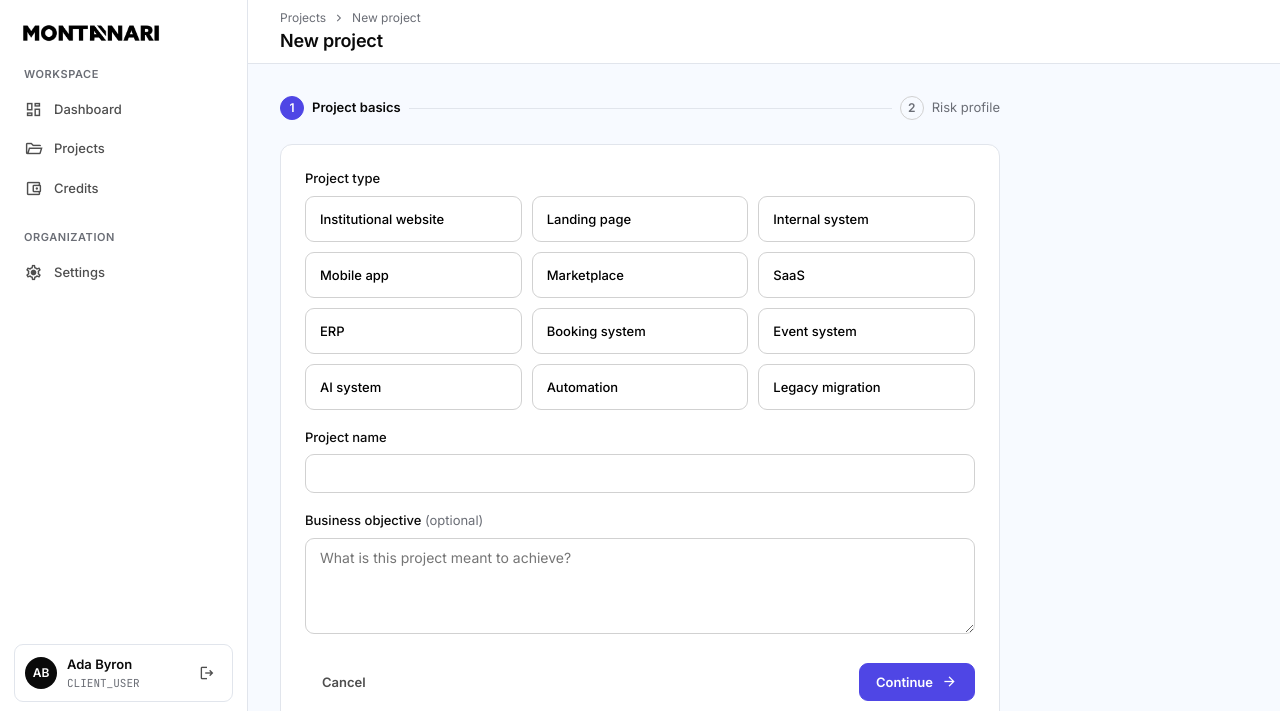
Test: NewProjectWizardPage › blocks step 1 → 2 until type and name are provided, then advances
This screenshot has width=1280, height=711.
Note: Try to continue with nothing filled.
Click the button "Continue". click: (917, 682)
box: [859,662,975,700]
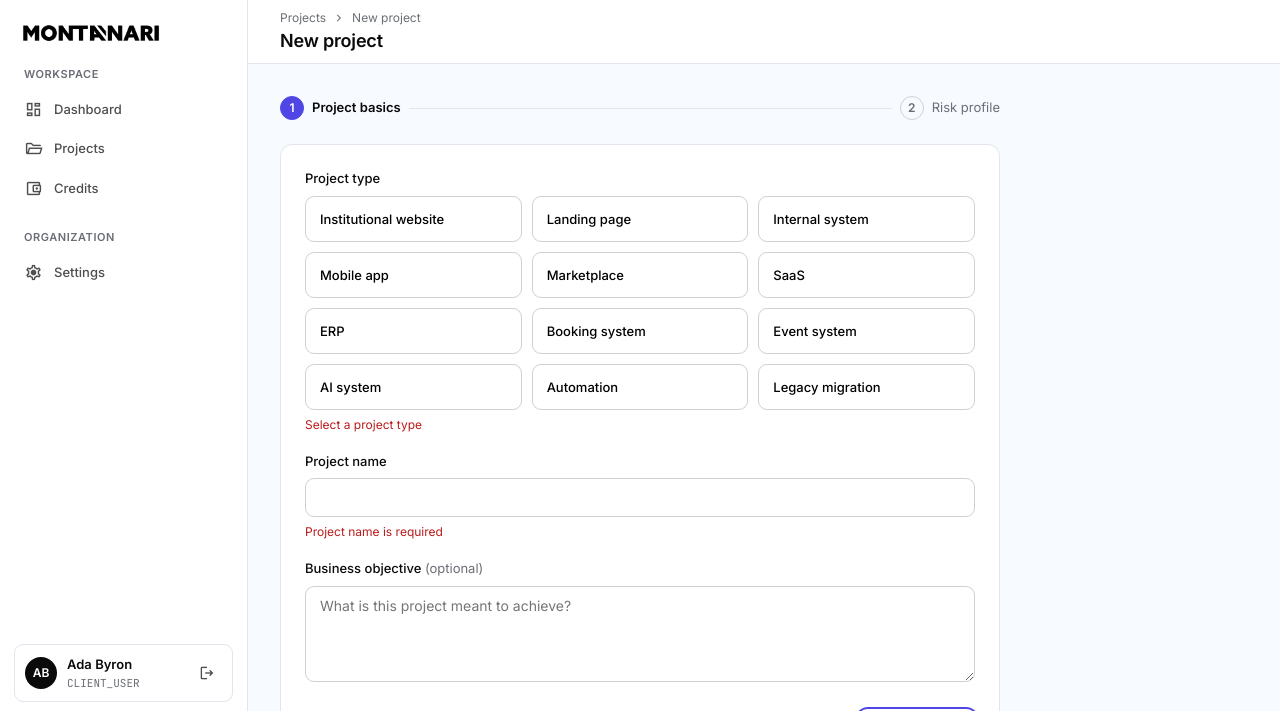
Check: the text "Select a project type" is shown, box [305,416,422,432]
Check: the text "Project name is required" is shown, box [305,524,443,539]
Note: Fill step 1.
Click the button "SaaS". click: (867, 274)
box: [758,252,975,298]
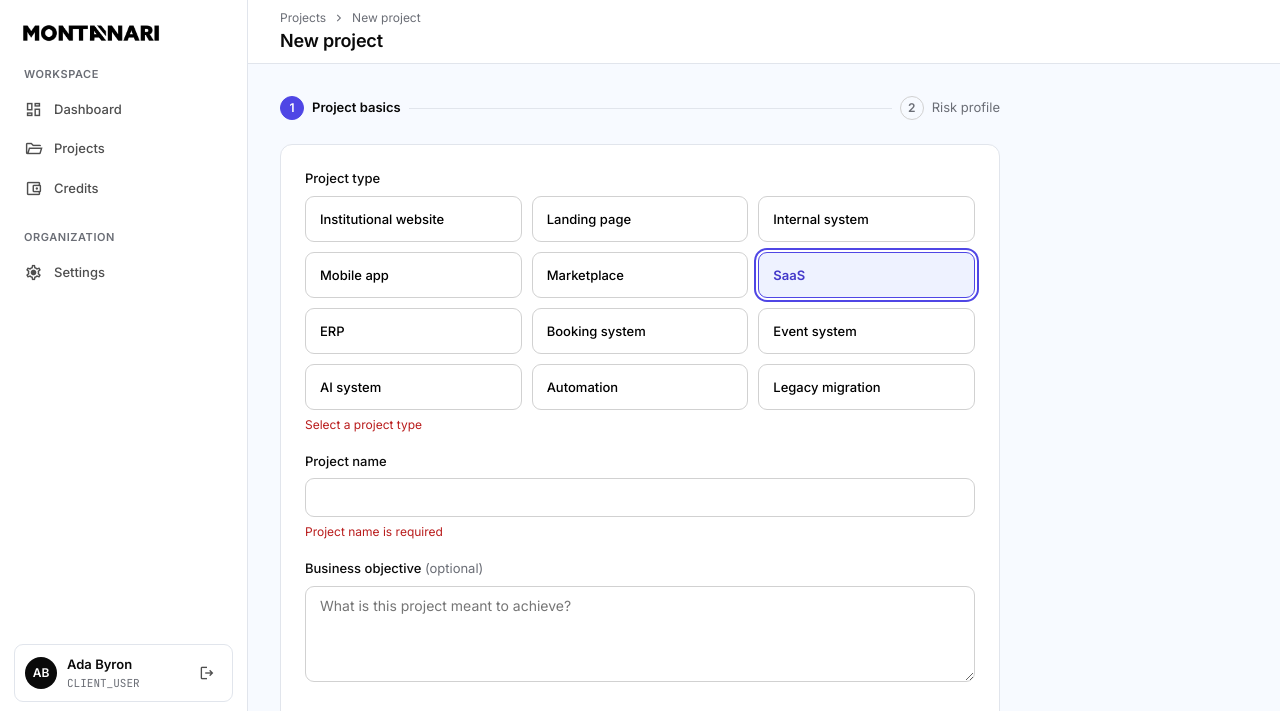
Type "Pilot project" into the field labelled "Project name". click: (640, 498)
box: [305,478,975,517]
(page scrolled)
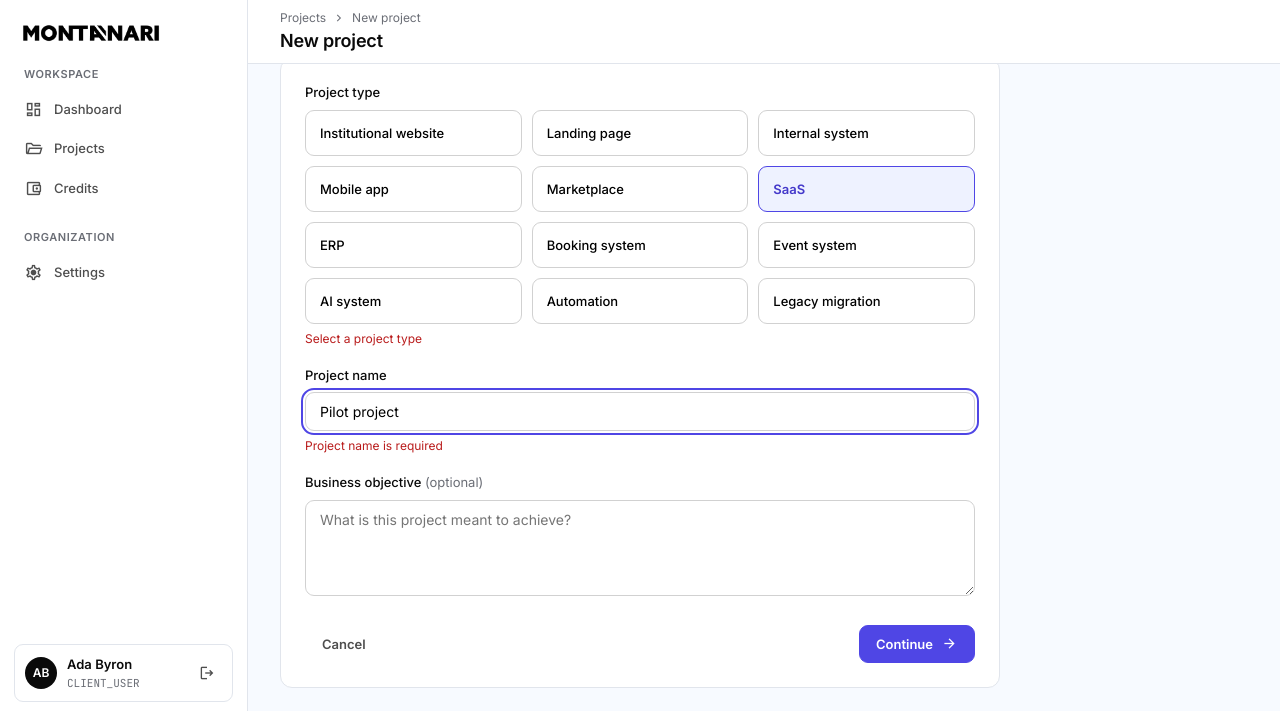
Click the button "Continue". click: (917, 644)
box: [859,624,975,662]
(page scrolled)
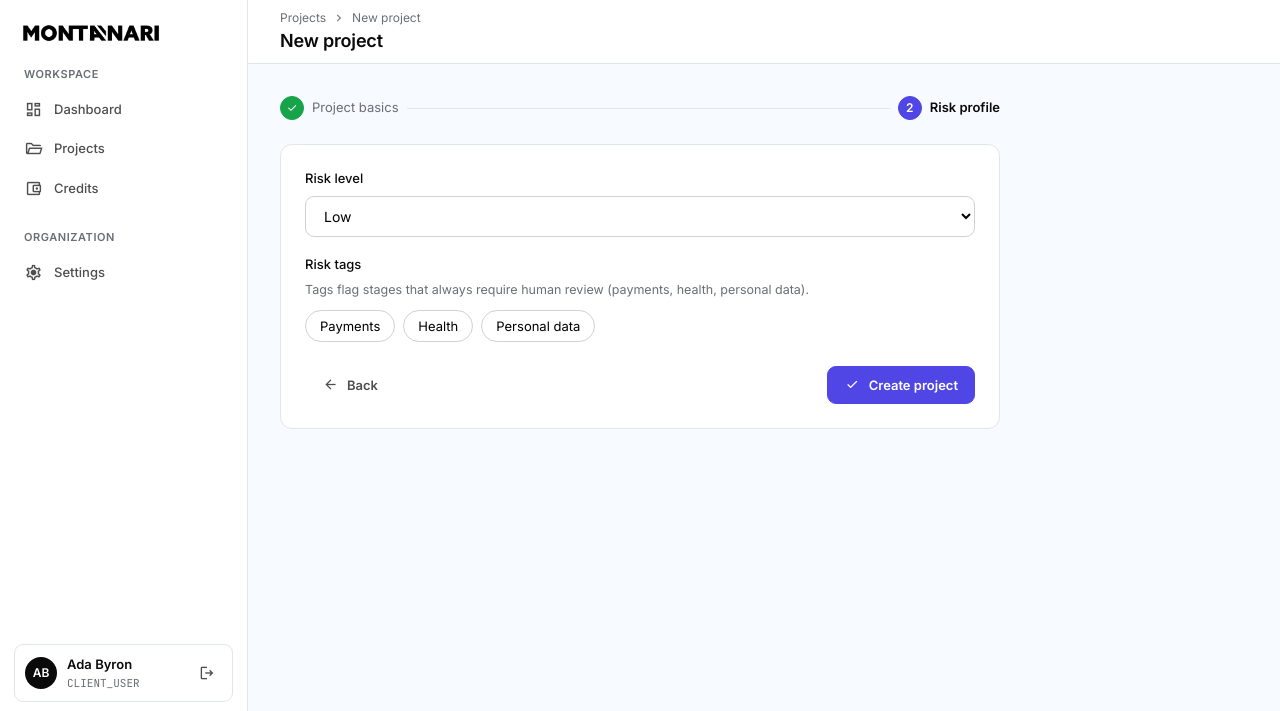
Check: the text "Risk tags" is shown, box [305,256,361,272]
Check: the button "Create project" is shown, box [827,366,975,404]
